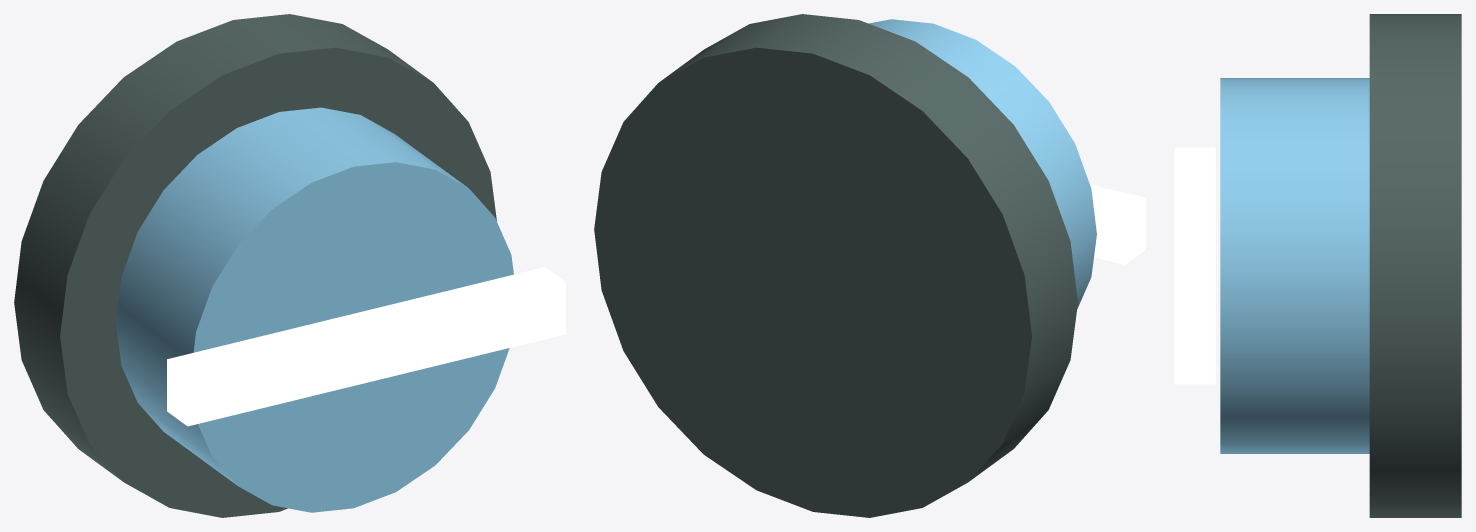
Rendered from lidar_standard.glb.
3 renders of one model, left to right at view 1: azimuth 30°, elevation 25°; view 2: azimuth 150°, elevation 25°; view 3: azimuth 270°, elevation 25°, orthographic.
Parts seen in each view (by area): view 1: scanner, base, scan_bar; view 2: base, scanner, scan_bar; view 3: scanner, base, scan_bar.
Part boxes in pixels (box(x1,y1,x2,y2)): scanner: box(116, 107, 513, 512); base: box(14, 14, 496, 517); scan_bar: box(167, 267, 565, 426); base: box(594, 14, 1077, 517); scanner: box(869, 19, 1096, 308); scan_bar: box(1090, 184, 1145, 264); scanner: box(1220, 78, 1369, 453); base: box(1369, 14, 1461, 517); scan_bar: box(1174, 147, 1215, 384).
Size of the model in its own units: 0.22 by 0.22 by 0.125.
